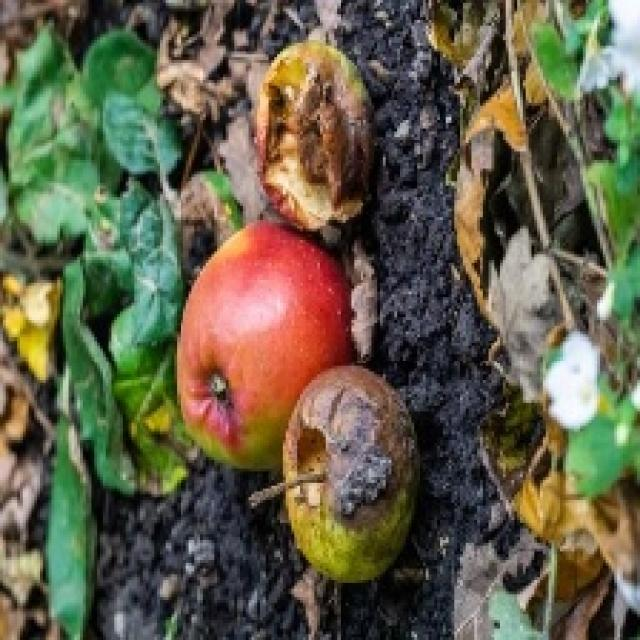100-_ripeness: (180, 229, 345, 458)
rotten_apple: (282, 368, 414, 576), (257, 42, 370, 228)
